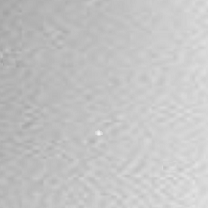Target: (95, 130, 103, 136)
